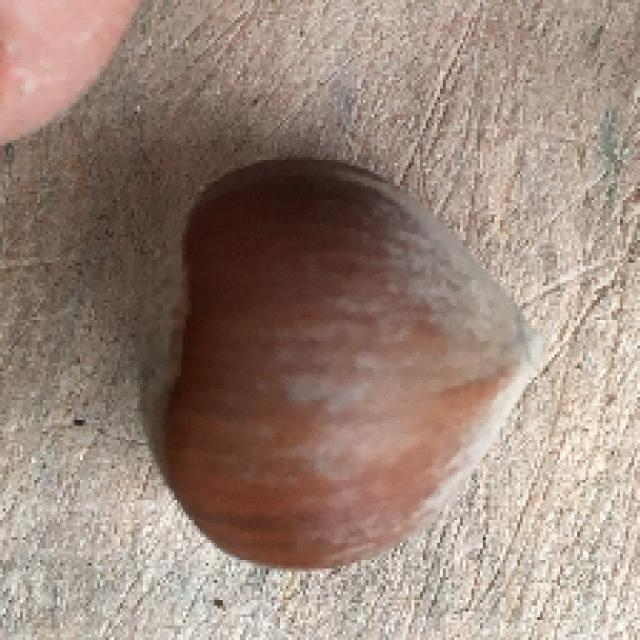QualityHazelnut: (141, 155, 547, 572)
